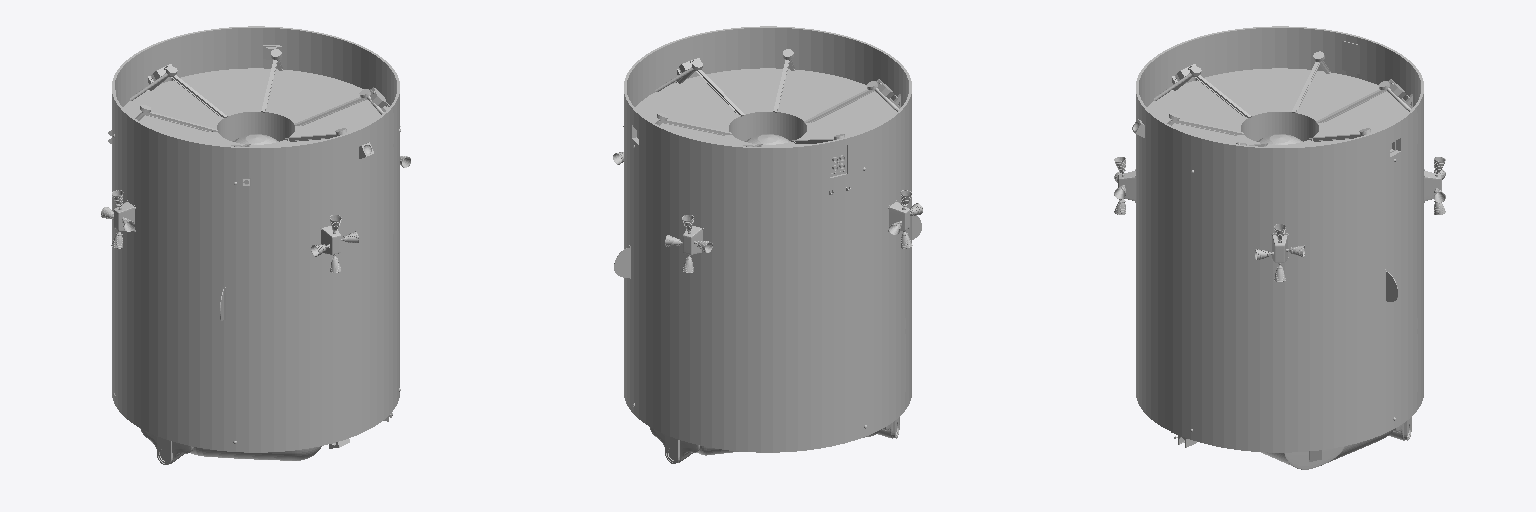
The model's file is SM main body.obj.
3 views of the same model, side by side, from view 1: azimuth 30°, elevation 25°; view 2: azimuth 150°, elevation 25°; view 3: azimuth 270°, elevation 25° (orthographic).
Visible parts, largest first — view 1: Mesh.004, Mesh.051, Mesh.046, Mesh.073, Mesh.050, Mesh.079, Mesh.065, Mesh.012; view 2: Mesh.004, Mesh.051, Mesh.046, Mesh.073, Mesh.050, Mesh.079, Mesh.065, Mesh.064; view 3: Mesh.004, Mesh.051, Mesh.046, Mesh.073, Mesh.050, Mesh.079, Mesh.065, Mesh.012, Mesh.023.
Part boxes in pixels (left/top/right/bottom): Mesh.004: left=112, top=94, right=399, bottom=452; Mesh.051: left=114, top=106, right=399, bottom=433; Mesh.046: left=115, top=28, right=396, bottom=144; Mesh.073: left=123, top=68, right=388, bottom=146; Mesh.050: left=115, top=49, right=386, bottom=146; Mesh.079: left=101, top=126, right=410, bottom=272; Mesh.065: left=112, top=26, right=399, bottom=147; Mesh.012: left=171, top=446, right=321, bottom=463; Mesh.004: left=624, top=94, right=911, bottom=452; Mesh.051: left=624, top=100, right=911, bottom=432; Mesh.046: left=627, top=28, right=908, bottom=177; Mesh.073: left=635, top=68, right=896, bottom=146; Mesh.050: left=655, top=49, right=900, bottom=175; Mesh.079: left=613, top=126, right=922, bottom=272; Mesh.065: left=624, top=26, right=911, bottom=147; Mesh.064: left=614, top=215, right=921, bottom=278; Mesh.004: left=1136, top=94, right=1423, bottom=452; Mesh.051: left=1136, top=100, right=1423, bottom=433; Mesh.046: left=1139, top=28, right=1420, bottom=144; Mesh.073: left=1147, top=68, right=1408, bottom=146; Mesh.050: left=1167, top=41, right=1412, bottom=146; Mesh.079: left=1114, top=157, right=1445, bottom=281; Mesh.065: left=1136, top=26, right=1423, bottom=147; Mesh.012: left=1261, top=428, right=1404, bottom=469; Mesh.023: left=1285, top=421, right=1410, bottom=465.
Bounding box in the file's own units: 4.5 × 5.04 × 4.5.